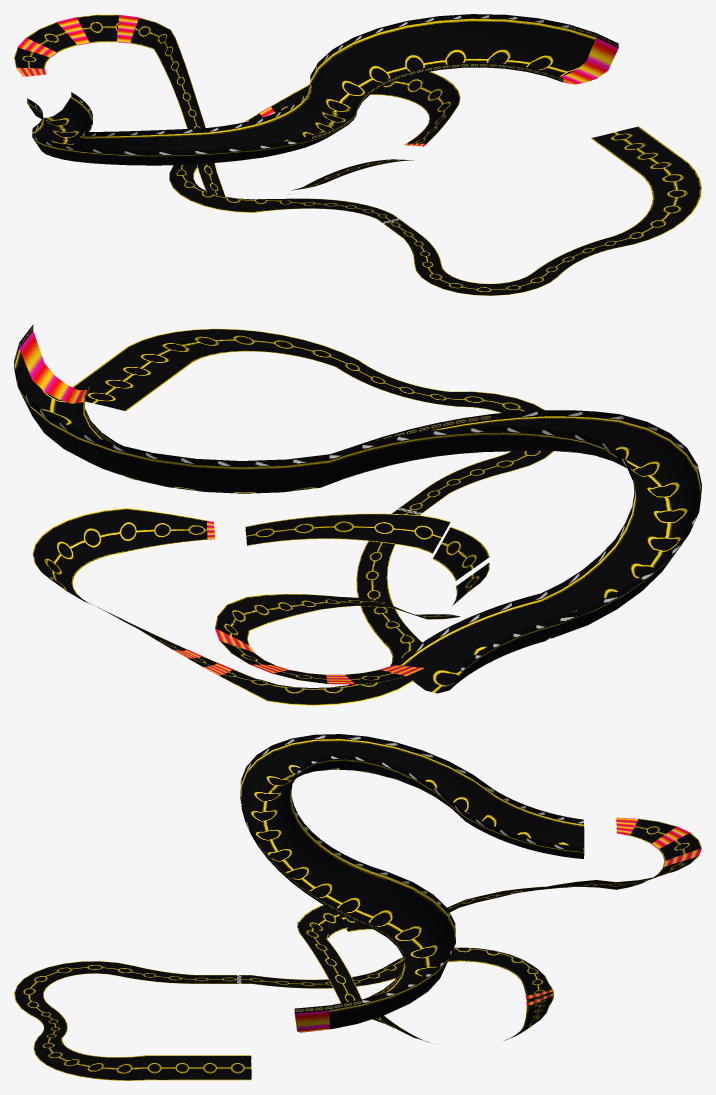
The picture shows the model from 3 angles, top to bottom: view 1: azimuth 30°, elevation 25°; view 2: azimuth 150°, elevation 25°; view 3: azimuth 270°, elevation 25°; orthographic projection. The views are drawn at different scales.
Visible parts, largest first — view 1: course-SKP--1.003, course-SKP--4.001, course-SKP--5.001, course-SKP--2.003; view 2: course-SKP--1.003, course-SKP--4.001, course-SKP--5.001, course-SKP--2.003; view 3: course-SKP--1.003, course-SKP--4.001, course-SKP--5.001, course-SKP--2.003.
Part boxes in pixels (x1,y1,x2,y2): course-SKP--1.003: [14, 14, 701, 295]; course-SKP--4.001: [27, 14, 568, 155]; course-SKP--5.001: [16, 14, 618, 146]; course-SKP--2.003: [312, 24, 618, 139]; course-SKP--1.003: [14, 328, 701, 705]; course-SKP--4.001: [14, 362, 701, 672]; course-SKP--5.001: [19, 331, 424, 684]; course-SKP--2.003: [14, 324, 491, 446]; course-SKP--1.003: [14, 739, 701, 1080]; course-SKP--4.001: [240, 734, 583, 1004]; course-SKP--5.001: [295, 817, 701, 1032]; course-SKP--2.003: [258, 842, 404, 1013].
Size of the model in its own units: 92912 by 23430 by 99724.
Materials: 5 (5 with a texture image).
